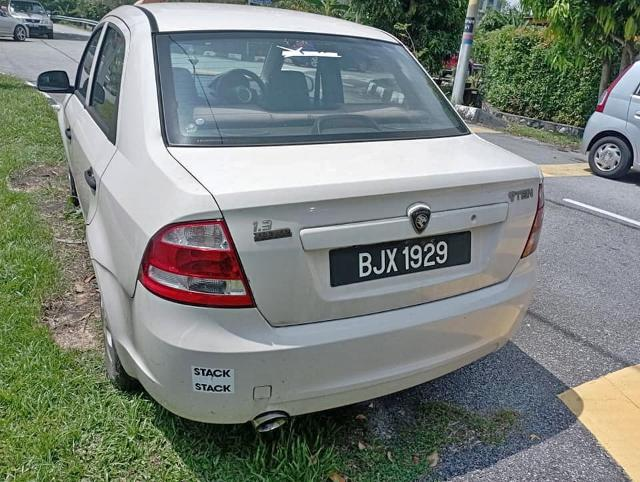License_Plate: (352, 231, 457, 287)
car: (34, 1, 554, 445)
